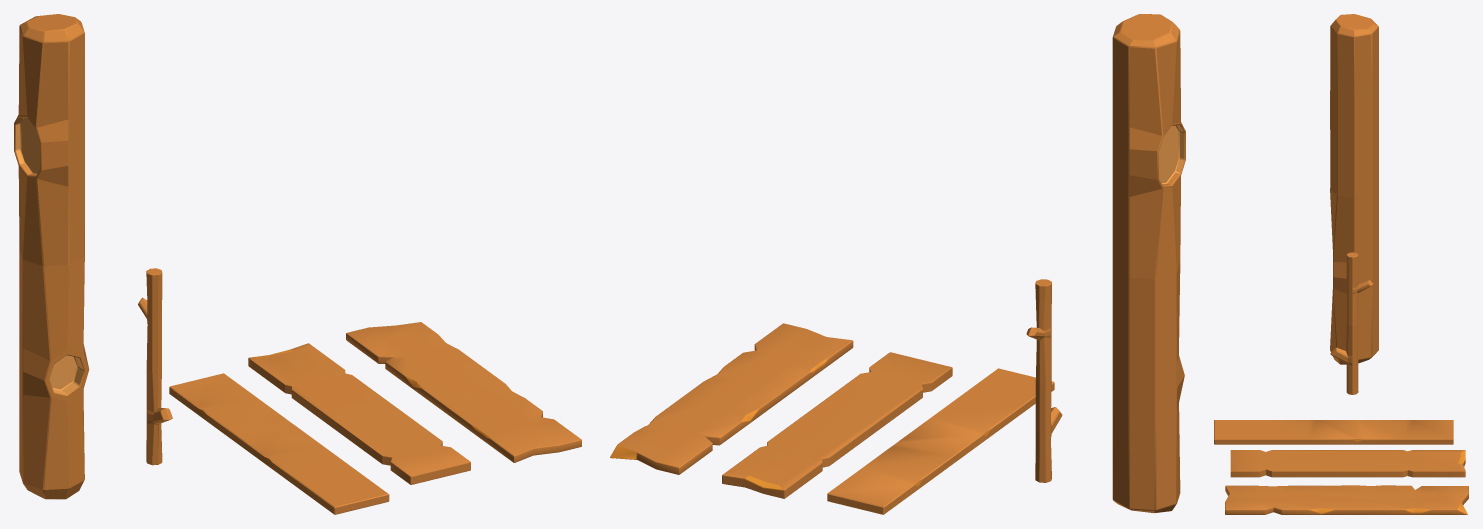
Rendered from wood.fbx.
3 views of the same model, side by side, from view 1: azimuth 30°, elevation 25°; view 2: azimuth 150°, elevation 25°; view 3: azimuth 270°, elevation 25° (orthographic). The views are drawn at different scales.
Parts seen in each view (by area): view 1: log, Plankchop, Badplank, Plank, wood chunk; view 2: log, Plankchop, Badplank, Plank, wood chunk; view 3: log, Plankchop, Badplank, Plank, wood chunk.
Part boxes in pixels (x1,y1,x2,y2): log: (14,14,89,499); Plankchop: (346,322,581,462); Badplank: (248,343,470,484); Plank: (169,373,389,514); wood chunk: (138,268,172,465); log: (1112,14,1185,513); Plankchop: (610,323,853,474); Badplank: (722,352,952,498); Plank: (827,368,1054,514); wood chunk: (1026,279,1062,482); log: (1330,14,1378,364); Plankchop: (1225,485,1468,514); Badplank: (1230,450,1465,477); Plank: (1214,420,1453,444); wood chunk: (1330,252,1373,394).
Size of the model in its own units: 483 by 462 by 313.
